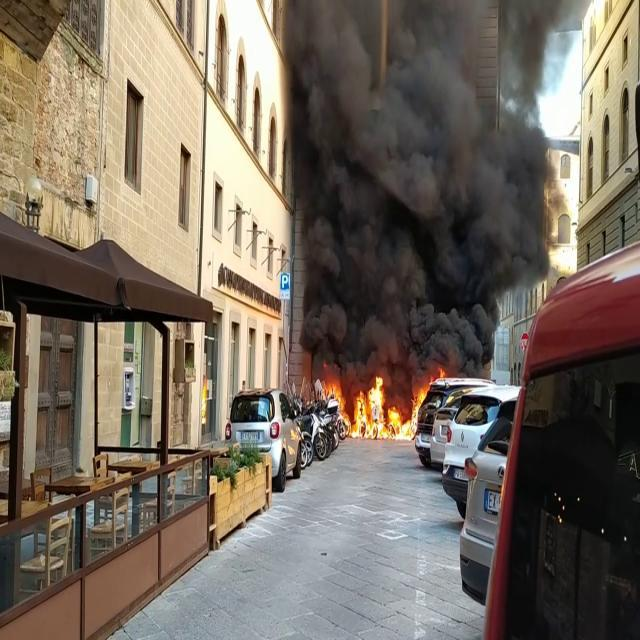Fire: (344, 372, 416, 442)
Smoke: (273, 0, 569, 356)
